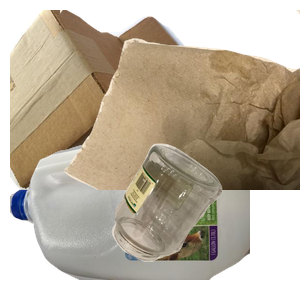cardboard: (10, 10, 206, 190)
glass: (110, 141, 300, 300)
plastic: (10, 120, 250, 300)
trash: (60, 10, 300, 190)
